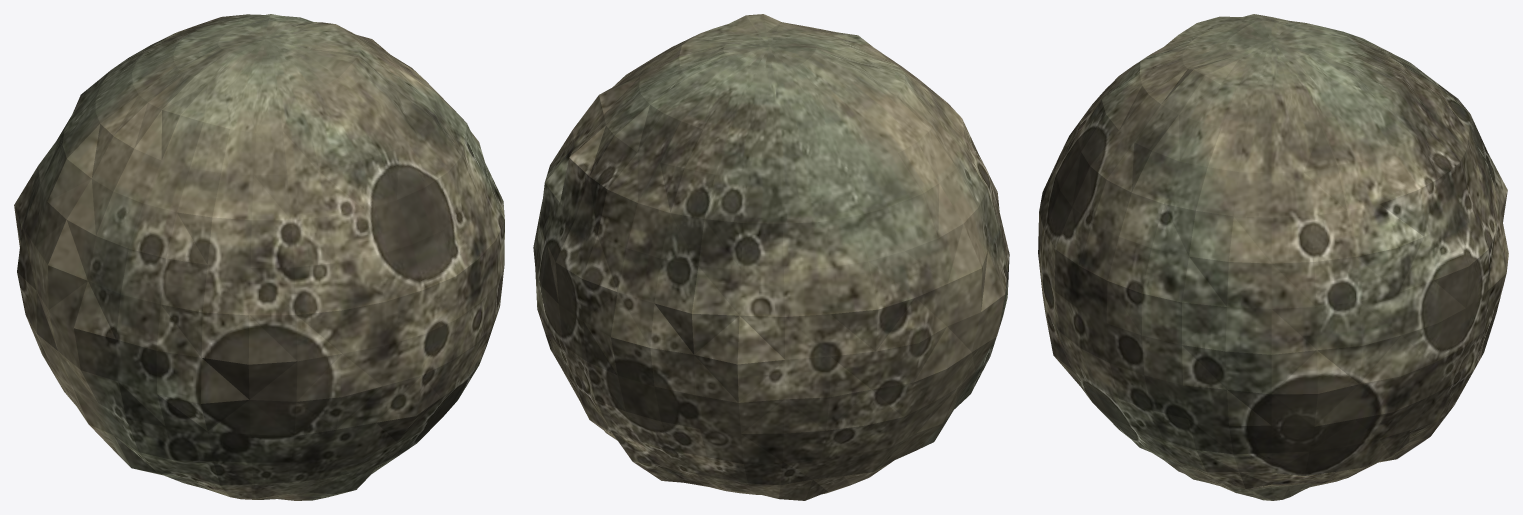
Rendered from planeta.fbx.
3 views of the same model, side by side, from view 1: azimuth 30°, elevation 25°; view 2: azimuth 150°, elevation 25°; view 3: azimuth 270°, elevation 25° (orthographic). The views are drawn at different scales.
Visible parts, largest first — view 1: Sphere; view 2: Sphere; view 3: Sphere.
Part boxes in pixels (x1,y1,x2,y2): Sphere: (14,14,504,500); Sphere: (533,14,1009,500); Sphere: (1038,14,1508,500).
Size of the model in its own units: 2072 by 2078 by 2015.
Materials: 1 (1 with a texture image).
